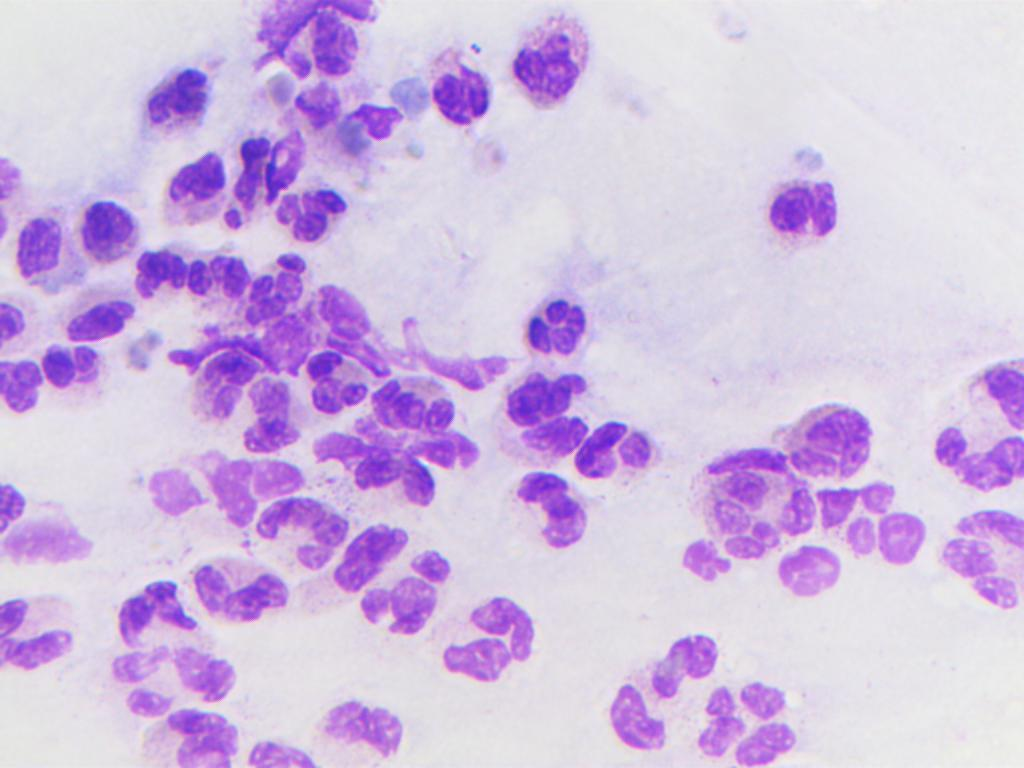artifact: (237, 0, 404, 89), (302, 78, 429, 174), (232, 117, 312, 231)
eosinophil: (506, 1, 600, 144), (417, 26, 503, 136), (751, 168, 856, 250)
epithelial: (484, 464, 593, 551), (243, 491, 350, 572), (947, 347, 1024, 442), (8, 205, 79, 296), (153, 153, 227, 229), (71, 191, 140, 262)
neutrophil: (686, 680, 827, 768), (438, 586, 555, 692), (773, 387, 888, 490), (95, 647, 246, 721), (308, 517, 412, 619), (814, 482, 939, 566), (0, 463, 91, 578), (114, 51, 224, 145), (319, 434, 443, 516), (223, 248, 328, 342), (705, 458, 805, 556), (937, 506, 1022, 618), (359, 546, 456, 642), (569, 404, 664, 500), (927, 410, 1024, 500), (299, 693, 410, 767), (127, 705, 254, 768), (633, 624, 722, 712), (231, 366, 310, 464), (188, 556, 289, 630), (113, 562, 196, 652), (0, 585, 80, 676), (366, 368, 463, 442), (493, 366, 594, 436), (33, 338, 121, 415), (601, 682, 678, 768), (62, 272, 145, 349), (123, 234, 202, 314), (511, 288, 598, 355), (273, 177, 349, 247), (304, 344, 373, 416), (0, 355, 56, 430), (771, 546, 848, 596), (411, 420, 483, 469), (664, 540, 731, 586), (240, 738, 318, 768), (0, 297, 28, 357)
